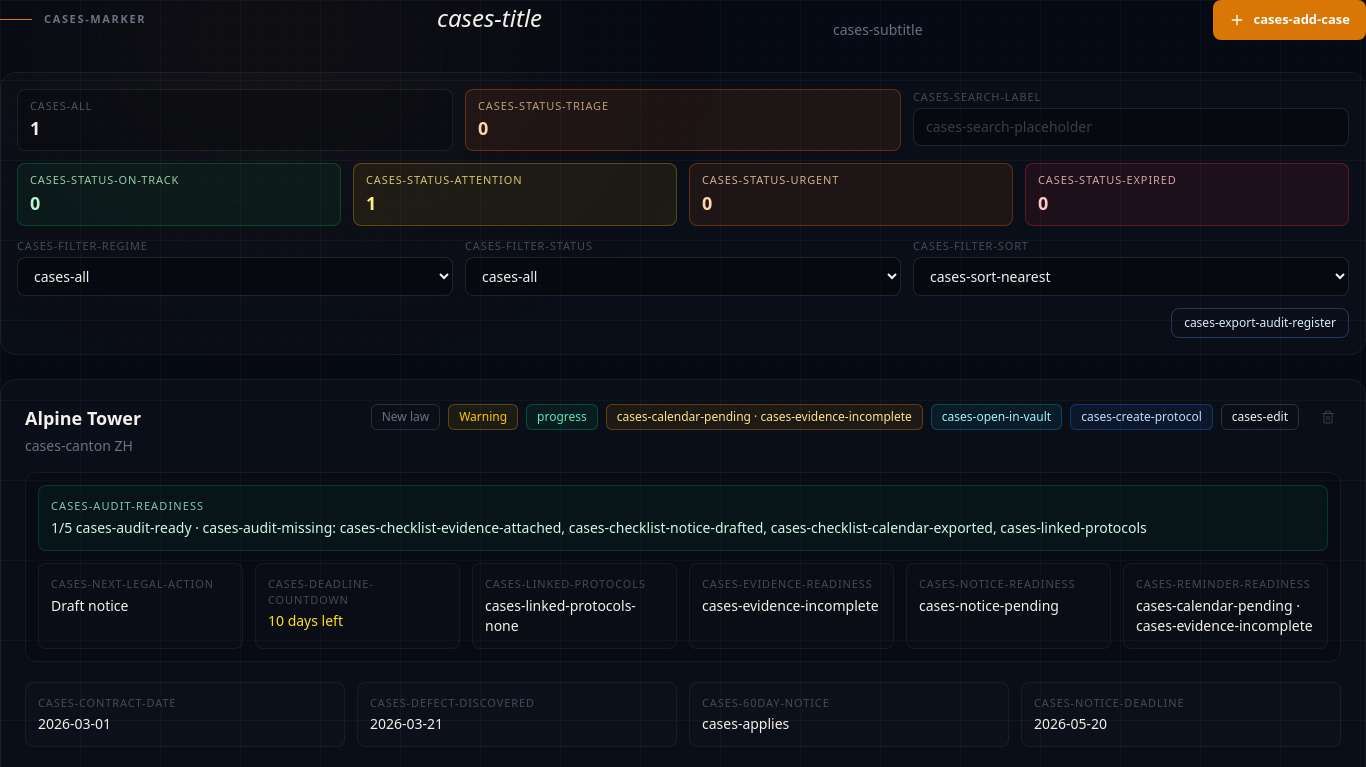
Test: cases mutation feedback › does not persist invalid acceptance chronology: cases-acceptance-before-contract
Expected: the heading "Alpine Tower" is shown, [25,404,141,432]
Click the button "cases-add-case": coordinates (1290, 20) [1214,0,1365,40]
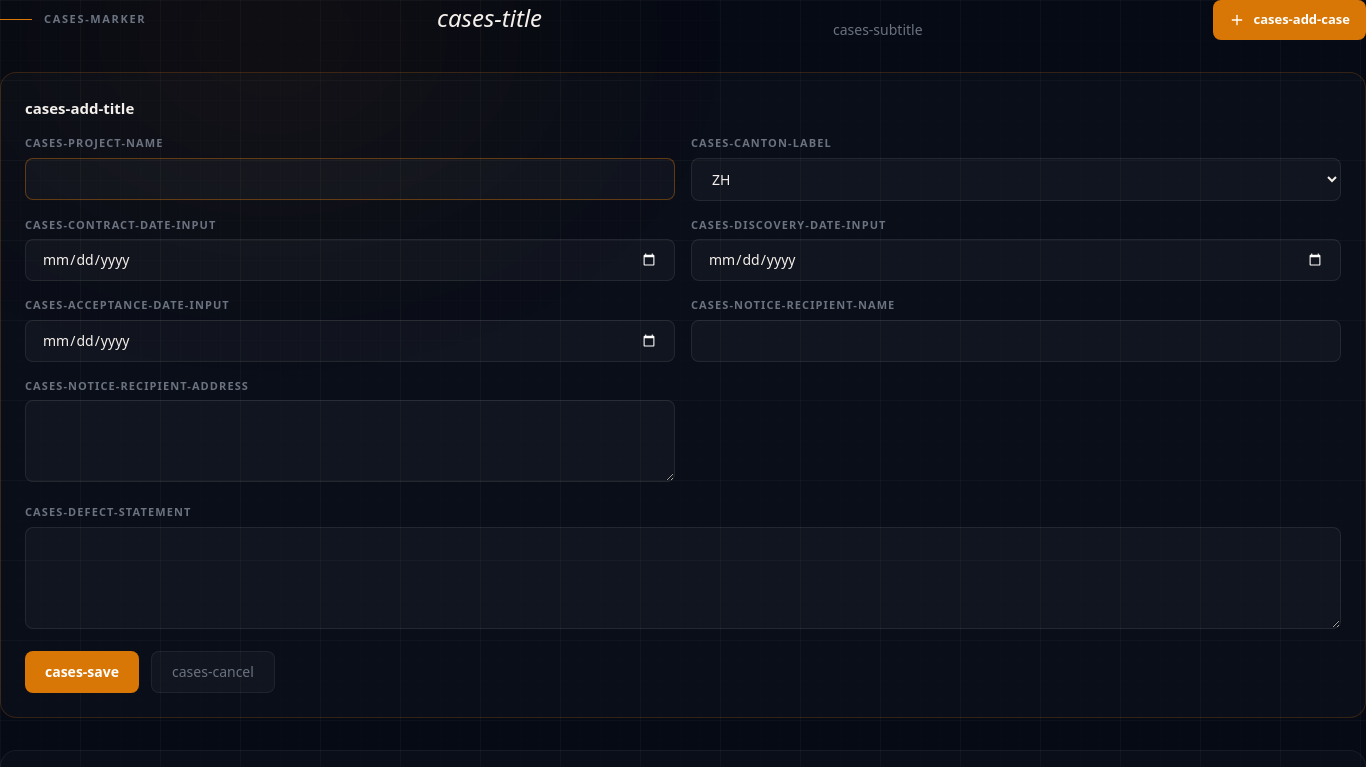
In the field labelled "cases-project-name": coordinates (350, 178) [25,158,675,200], type "Invalid acceptance"
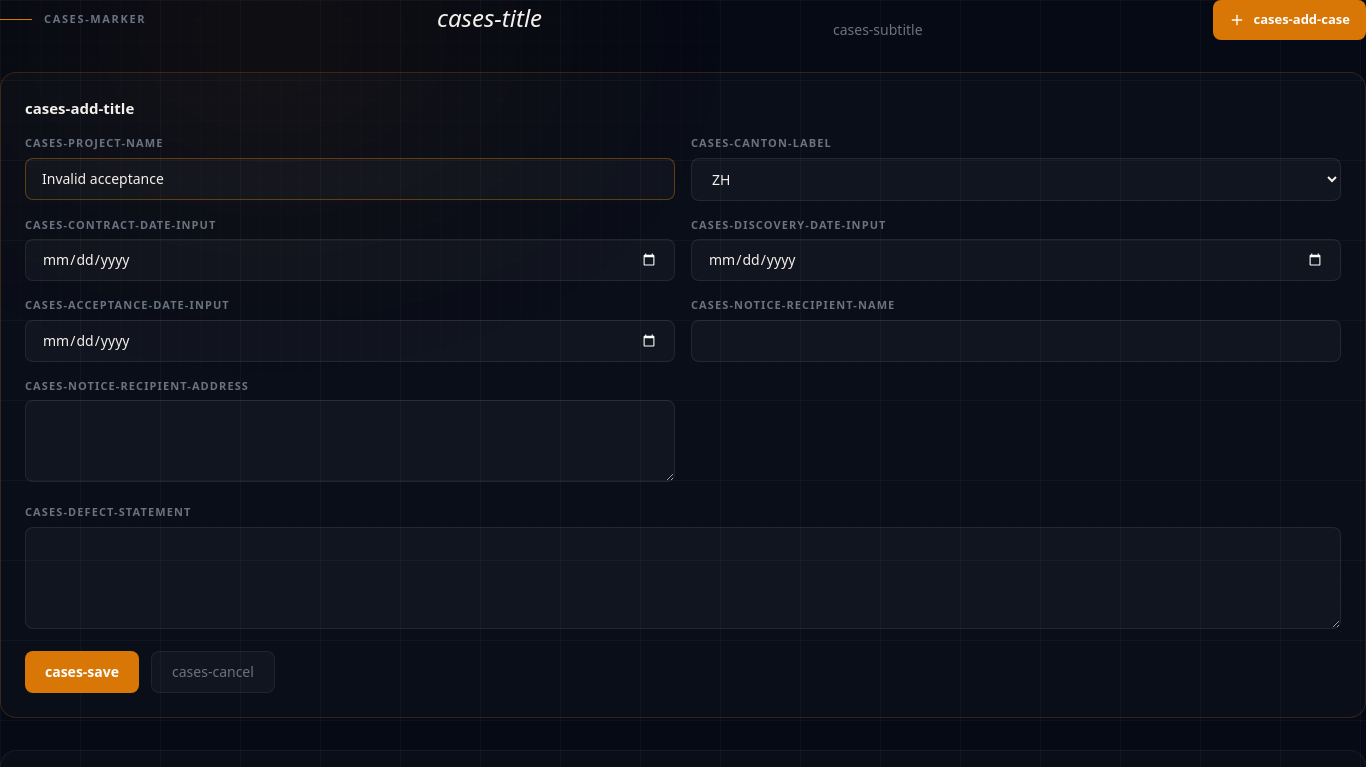
In the date field labelled "cases-contract-date-input": coordinates (350, 260) [25,239,675,281], type "2026-04-01"
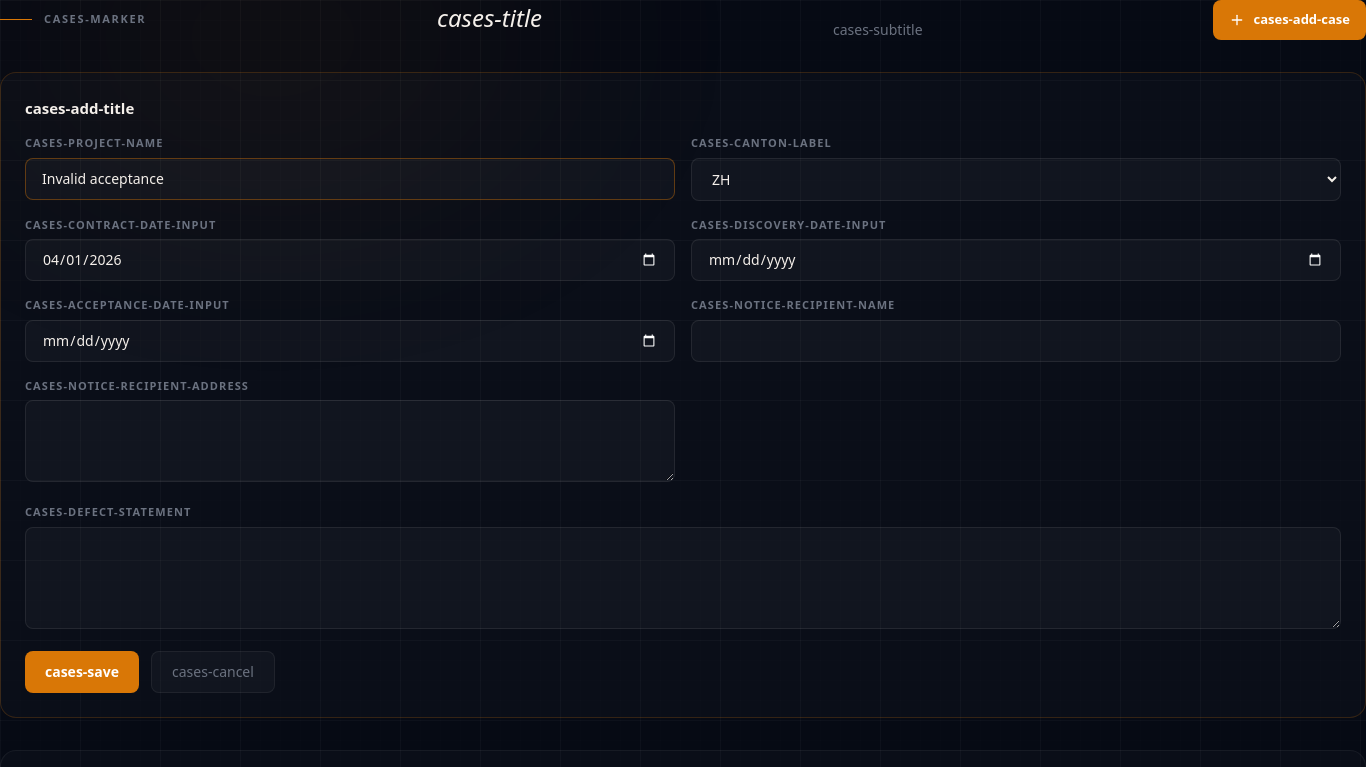
In the date field labelled "cases-discovery-date-input": coordinates (1016, 260) [691,239,1341,281], type "2026-04-20"
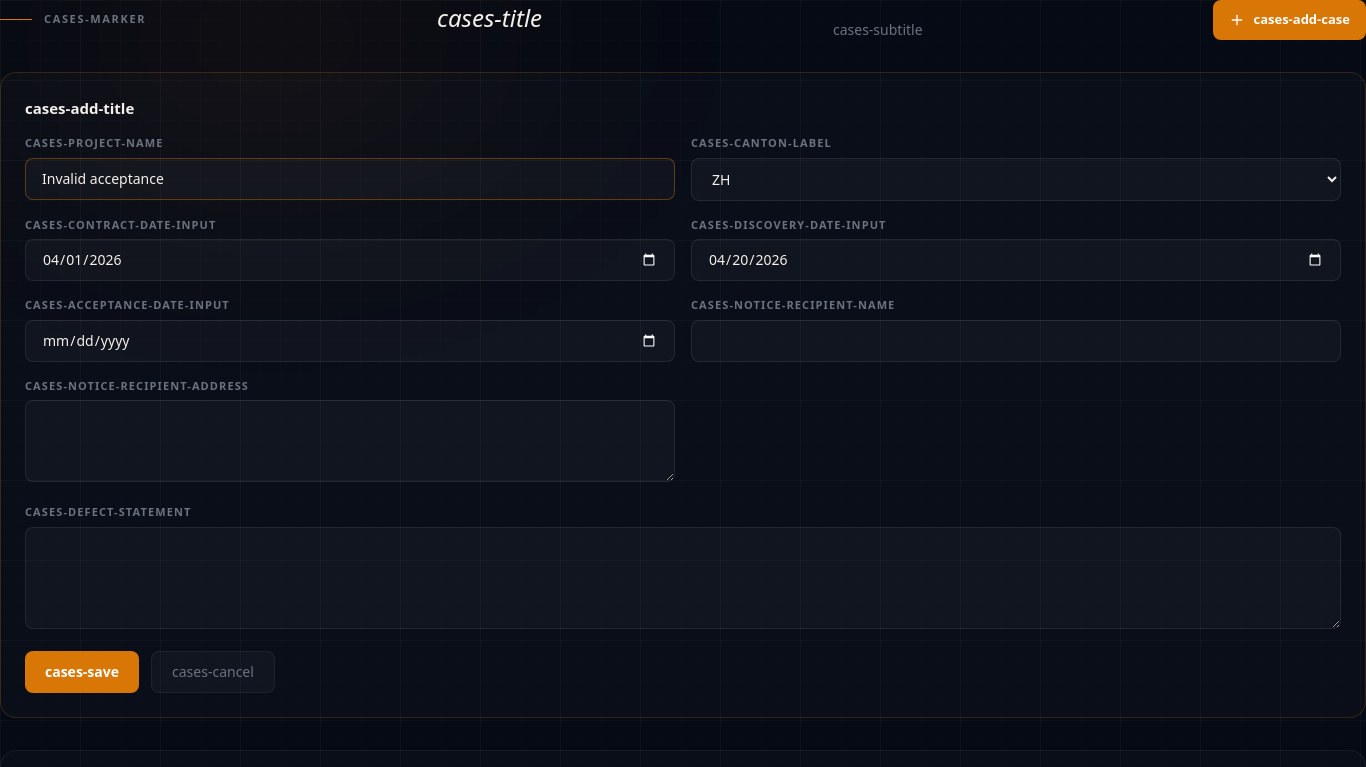
In the date field labelled "cases-acceptance-date-input": coordinates (350, 340) [25,320,675,362], type "2026-03-31"
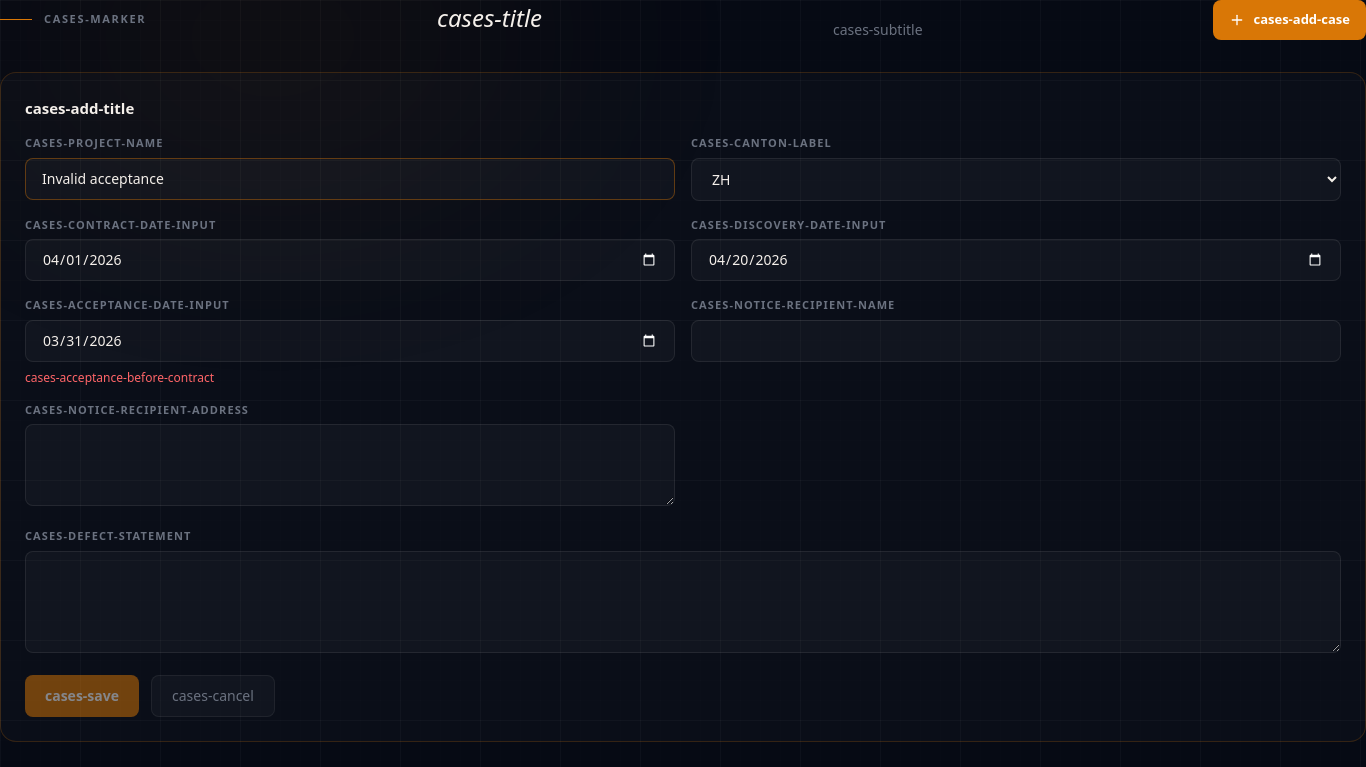
Expected: the text "cases-acceptance-before-contract" is shown, [25,368,214,386]
Expected: the button "cases-save" is disabled, [25,674,139,716]
